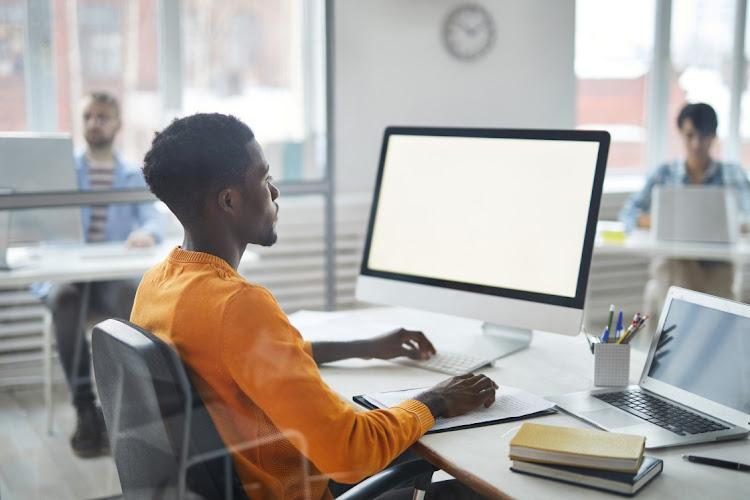Good Sitting Posture: (126, 109, 500, 497)
